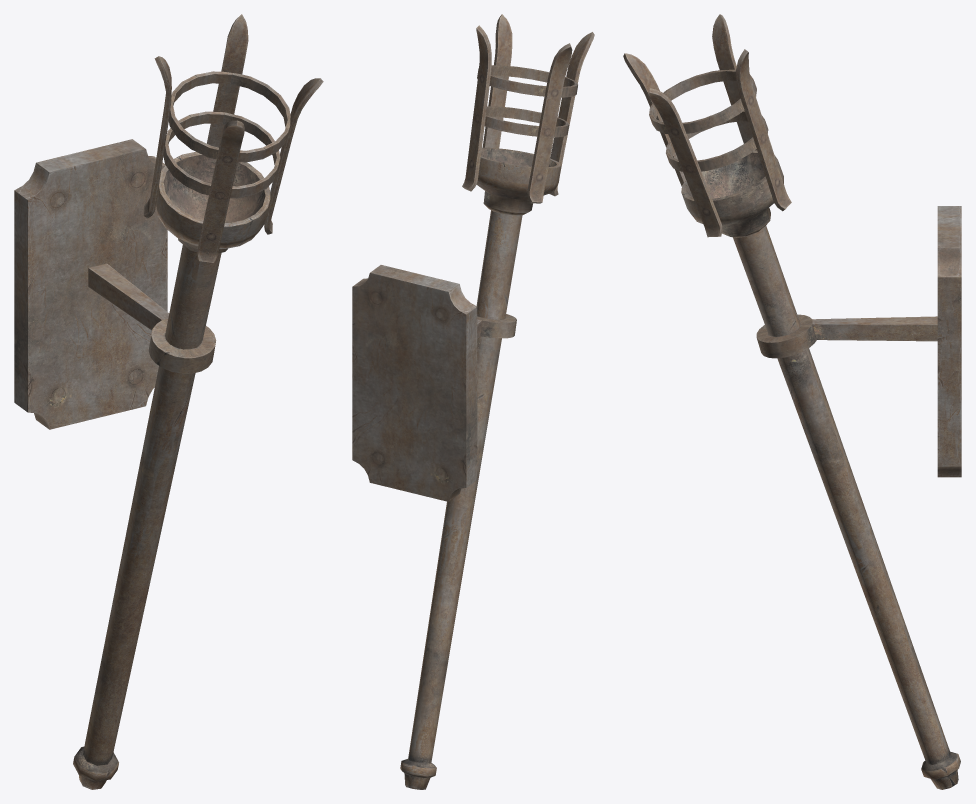
Rendered from torch01lod0.dae.
3 renders of one model, left to right at view 1: azimuth 30°, elevation 25°; view 2: azimuth 150°, elevation 25°; view 3: azimuth 270°, elevation 25°, orthographic. The views are drawn at different scales.
Visible parts, largest first — view 1: SM_Torch_Wallmounted_01_LOD; view 2: SM_Torch_Wallmounted_01_LOD; view 3: SM_Torch_Wallmounted_01_LOD.
Part boxes in pixels (x1,y1,x2,y2): SM_Torch_Wallmounted_01_LOD: [14, 14, 323, 789]; SM_Torch_Wallmounted_01_LOD: [352, 14, 594, 789]; SM_Torch_Wallmounted_01_LOD: [623, 14, 961, 789].
Bounding box in the file's own units: 0.1753 × 1.01 × 0.4126.
